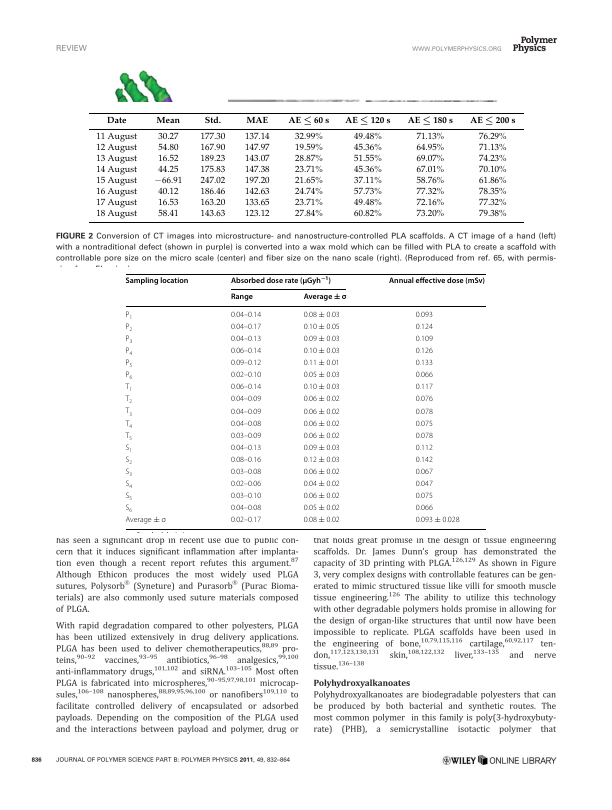borderless: (124, 272, 486, 529), (88, 111, 524, 222)
cell: (230, 275, 332, 286), (388, 276, 486, 286), (125, 276, 189, 286), (344, 116, 391, 126), (406, 116, 453, 126), (469, 116, 516, 126), (95, 132, 137, 143), (95, 143, 137, 154), (95, 154, 137, 165), (95, 165, 137, 176), (95, 176, 137, 187), (95, 187, 137, 198), (95, 198, 137, 209), (95, 209, 137, 220), (303, 292, 347, 302), (287, 116, 330, 126), (415, 516, 461, 525), (124, 516, 167, 525), (303, 310, 341, 320), (303, 322, 341, 332), (303, 431, 341, 441), (303, 443, 341, 453), (303, 335, 341, 344), (303, 347, 341, 356), (303, 359, 341, 368), (303, 371, 341, 380), (303, 383, 341, 392), (303, 395, 341, 404), (303, 407, 341, 416), (303, 419, 341, 428), (303, 456, 341, 465), (303, 468, 341, 477), (303, 480, 341, 489), (303, 492, 341, 501), (303, 504, 341, 513), (303, 516, 341, 525), (352, 132, 382, 143), (415, 132, 445, 143), (477, 132, 507, 143), (352, 143, 382, 154), (415, 143, 445, 154), (477, 143, 507, 154), (352, 154, 382, 165), (415, 154, 445, 165), (477, 154, 507, 165), (352, 165, 382, 176), (415, 165, 445, 176), (477, 165, 507, 176), (153, 176, 183, 187), (352, 176, 382, 187), (415, 176, 445, 187), (477, 176, 507, 187), (352, 187, 382, 198), (415, 187, 445, 198), (477, 187, 507, 198), (352, 198, 382, 209), (415, 198, 445, 209), (477, 198, 507, 209), (352, 209, 382, 220), (415, 209, 445, 220), (477, 209, 507, 220), (230, 310, 262, 320), (230, 322, 262, 332), (230, 431, 262, 441), (230, 443, 262, 453), (294, 132, 323, 143), (294, 143, 323, 154), (294, 154, 323, 165), (294, 165, 323, 176), (294, 176, 323, 187), (294, 187, 323, 198), (294, 198, 323, 209), (294, 209, 323, 220), (199, 132, 226, 143), (243, 132, 270, 143), (199, 143, 226, 154), (243, 143, 270, 154), (199, 154, 226, 165), (243, 154, 270, 165), (199, 165, 226, 176), (243, 165, 270, 176), (199, 176, 226, 187), (243, 176, 270, 187), (199, 187, 226, 198), (243, 187, 270, 198), (199, 198, 226, 209), (243, 198, 270, 209), (199, 209, 226, 220), (243, 209, 270, 220), (230, 335, 262, 344), (230, 347, 262, 356), (230, 359, 262, 368), (230, 371, 262, 380), (230, 383, 262, 392), (230, 395, 262, 404), (230, 407, 262, 416), (230, 419, 262, 428), (230, 456, 262, 465), (230, 468, 262, 477), (230, 480, 262, 489), (230, 492, 262, 501), (230, 504, 262, 513), (230, 516, 262, 525), (157, 132, 179, 143), (157, 143, 179, 154), (157, 154, 179, 165), (157, 165, 179, 176), (157, 187, 179, 198), (157, 198, 179, 209), (157, 209, 179, 220), (230, 292, 254, 302), (155, 116, 181, 124), (415, 310, 434, 320), (415, 322, 434, 332), (415, 431, 434, 441), (415, 443, 434, 453), (245, 116, 268, 124), (105, 116, 127, 124), (415, 335, 434, 344), (415, 347, 434, 356), (415, 359, 434, 368), (415, 371, 434, 380), (415, 383, 434, 392), (415, 395, 434, 404), (415, 407, 434, 416), (415, 419, 434, 428), (415, 456, 434, 465), (415, 468, 434, 477), (415, 480, 434, 489), (415, 492, 434, 501), (415, 504, 434, 513), (203, 116, 221, 124), (124, 383, 133, 394), (124, 395, 133, 406), (124, 407, 133, 418), (124, 419, 133, 430), (124, 431, 133, 442), (124, 443, 133, 454), (124, 492, 133, 503), (124, 504, 133, 515), (124, 456, 133, 466), (124, 468, 133, 478), (124, 480, 133, 490), (125, 310, 133, 321), (125, 322, 133, 333), (125, 371, 133, 382), (125, 335, 133, 345), (125, 347, 133, 357), (125, 359, 133, 369)
